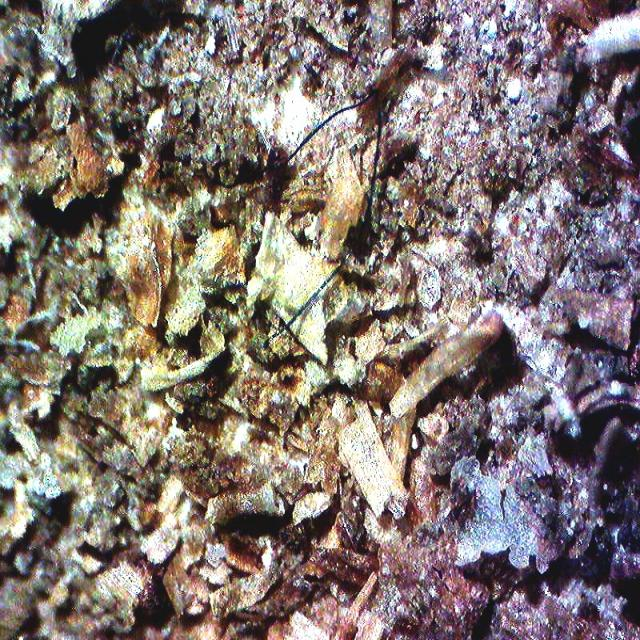microplastic: (263, 90, 383, 348)
